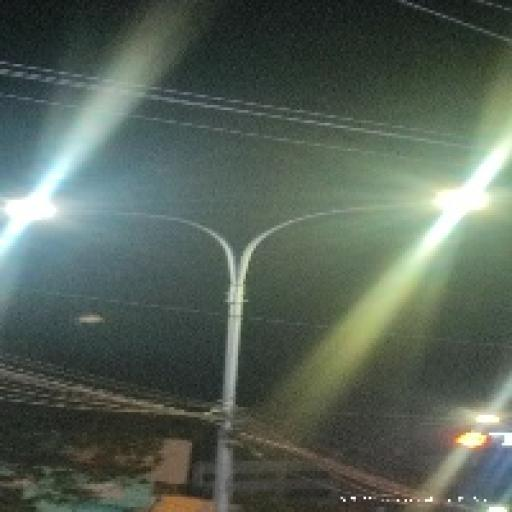Working: (418, 177, 504, 222), (2, 186, 71, 242)
